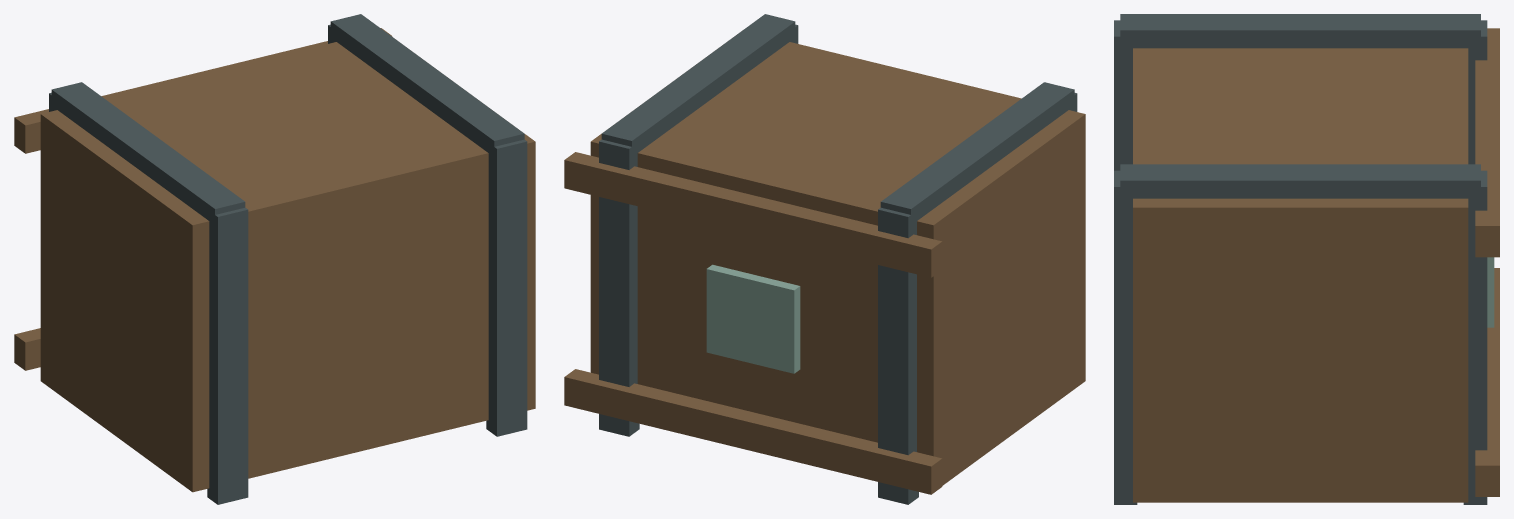
The model's file is SupplyCrate.obj.
3 views of the same model, side by side, from view 1: azimuth 30°, elevation 25°; view 2: azimuth 150°, elevation 25°; view 3: azimuth 270°, elevation 25° (orthographic). The views are drawn at different scales.
Visible parts, largest first — view 1: SupplyCrate; view 2: SupplyCrate; view 3: SupplyCrate.
Boxes of the visible parts, box(x1,y1,x2,y2) form: SupplyCrate: box(14, 14, 535, 504); SupplyCrate: box(564, 14, 1085, 504); SupplyCrate: box(1114, 14, 1499, 504).
Size of the model in its own units: 4.6 by 3.52 by 3.8.
